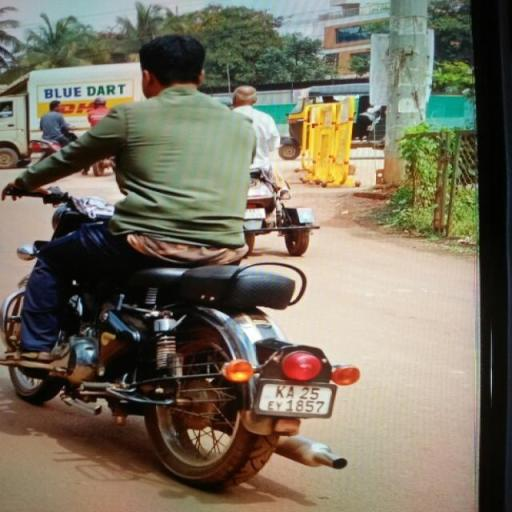bike: (1, 27, 365, 499)
numberplate: (258, 378, 337, 424)
withouthelmet: (142, 34, 202, 88)
